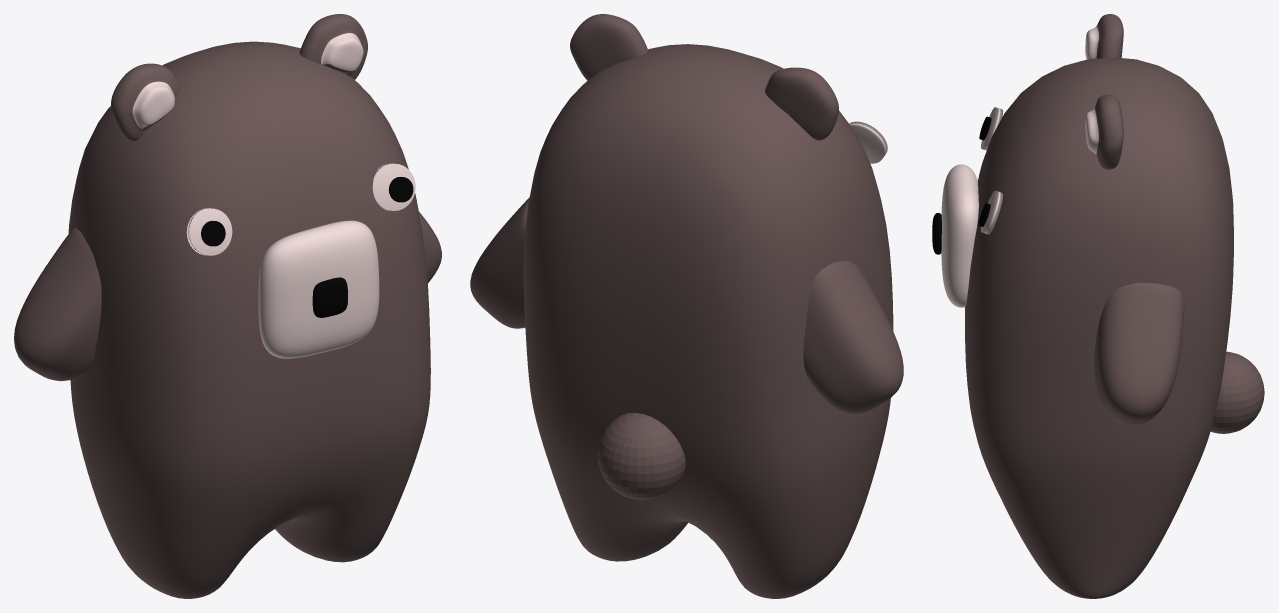
File: sample_bear_small2.glb
3 renders of one model, left to right at view 1: azimuth 30°, elevation 25°; view 2: azimuth 150°, elevation 25°; view 3: azimuth 270°, elevation 25°, orthographic. The views are drawn at different scales.
Visible parts, largest first — view 1: Cube, Cube.002, Cube.007, Cube.004, Cube.005, Cylinder.004, Cube.003, Cylinder.003, Cube.006; view 2: Cube, Cube.007, 球, Cube.006, Cube.004, Cube.005, Cylinder.004; view 3: Cube, Cube.006, Cube.002, 球, Cube.005, Cube.004, Cylinder.003.
Part boxes in pixels (<box>): Cube: <box>68,41,430,598</box>; Cube.002: <box>258,220,379,358</box>; Cube.007: <box>14,228,101,381</box>; Cube.004: <box>111,63,180,141</box>; Cube.005: <box>299,14,367,79</box>; Cylinder.004: <box>186,208,232,255</box>; Cube.003: <box>312,277,347,317</box>; Cylinder.003: <box>372,163,415,210</box>; Cube.006: <box>419,212,441,282</box>; Cube: <box>523,44,893,598</box>; Cube.007: <box>803,261,903,414</box>; 球: <box>597,413,685,500</box>; Cube.006: <box>470,197,529,328</box>; Cube.004: <box>765,67,838,140</box>; Cube.005: <box>570,14,648,80</box>; Cylinder.004: <box>849,121,887,163</box>; Cube: <box>965,57,1233,598</box>; Cube.006: <box>1094,282,1184,425</box>; Cube.002: <box>941,164,978,307</box>; 球: <box>1210,351,1264,433</box>; Cube.005: <box>1085,94,1123,169</box>; Cube.004: <box>1085,14,1123,59</box>; Cylinder.003: <box>981,190,1003,234</box>.
Size of the model in its own units: 1.09 by 1.32 by 0.8097.
